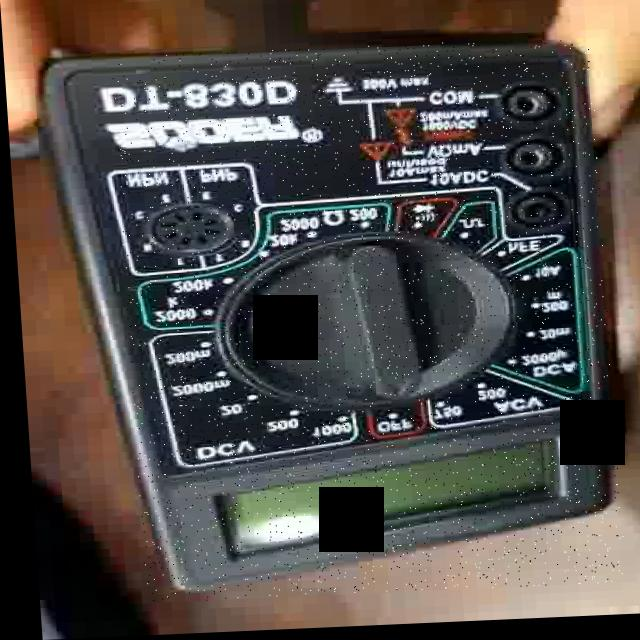multimeter: (109, 41, 618, 604)
